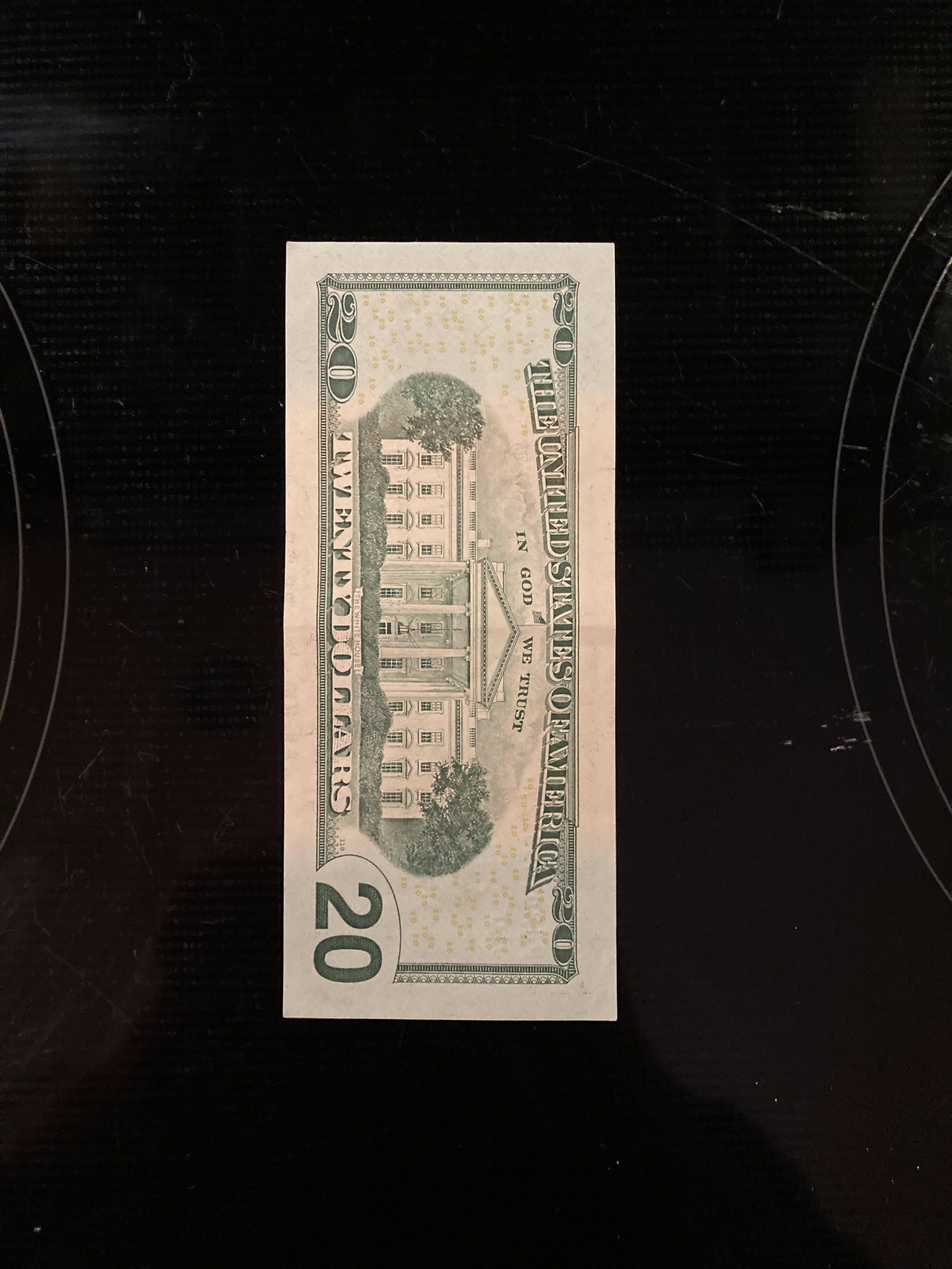twenty-back: (282, 239, 622, 1026)
